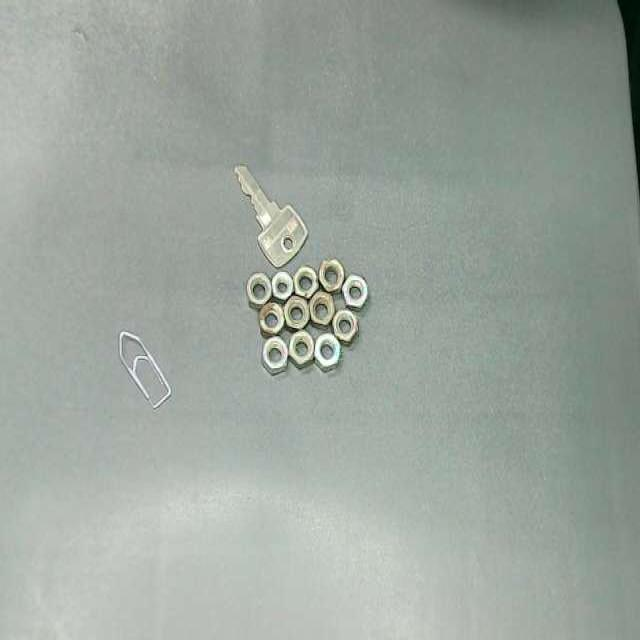Porca: (309, 291, 334, 330), (314, 334, 340, 371), (262, 336, 287, 374), (246, 272, 271, 309), (258, 302, 284, 337), (318, 259, 344, 293), (332, 308, 357, 343), (284, 296, 309, 331), (289, 331, 313, 367), (342, 275, 367, 309), (294, 266, 318, 298), (272, 271, 293, 301)
